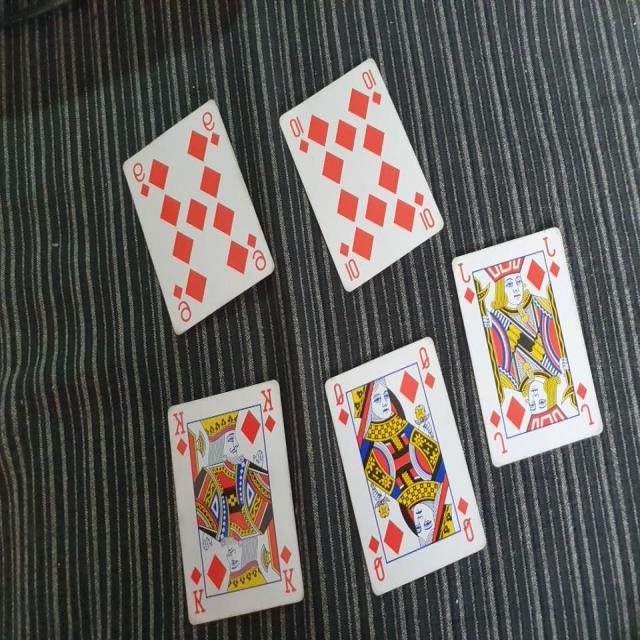10 of diamonds: (278, 55, 452, 294)
9 of diamonds: (122, 94, 277, 337)
jack of diamonds: (452, 222, 608, 468)
king of diamonds: (165, 380, 308, 626)
queen of diamonds: (324, 332, 488, 598)
